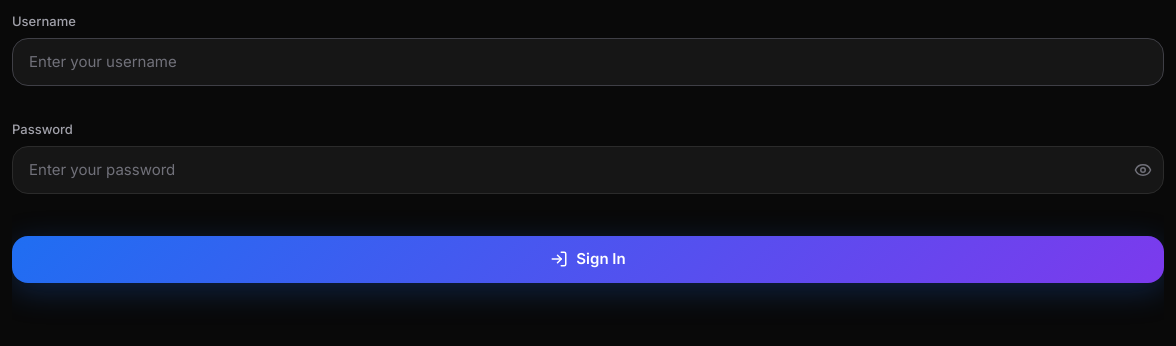
LoginForm › shows only password error when username is filled
Type "alice" into the field labelled "Username" at (588, 62), box [12, 38, 1164, 86]
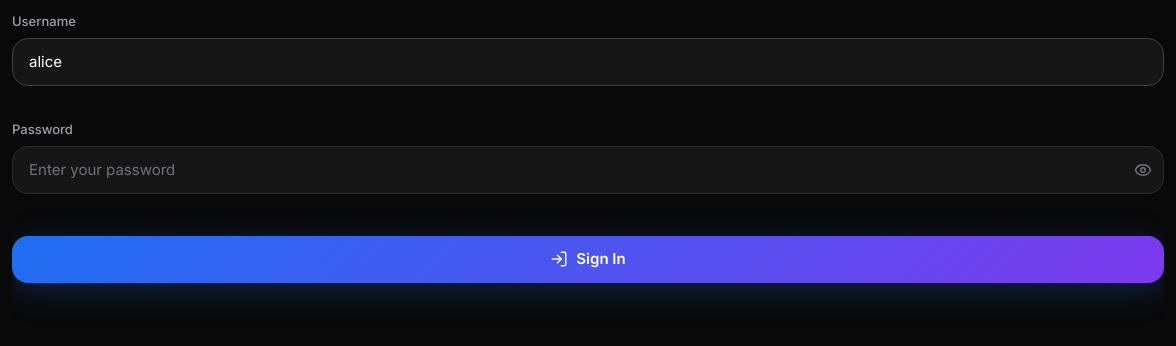
Click the button "Sign In" at (588, 259), box [12, 236, 1164, 282]
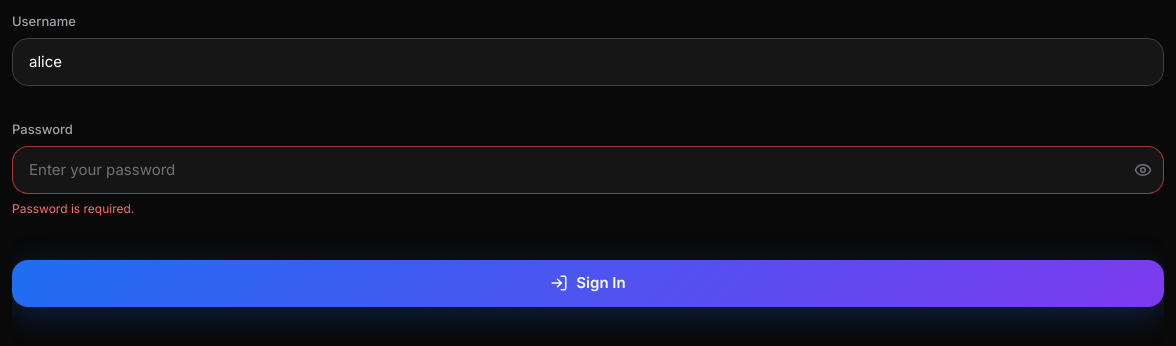
Check: the number of messages is 1, box [12, 201, 134, 216]
Check: the message shows "Password", box [12, 201, 134, 216]
